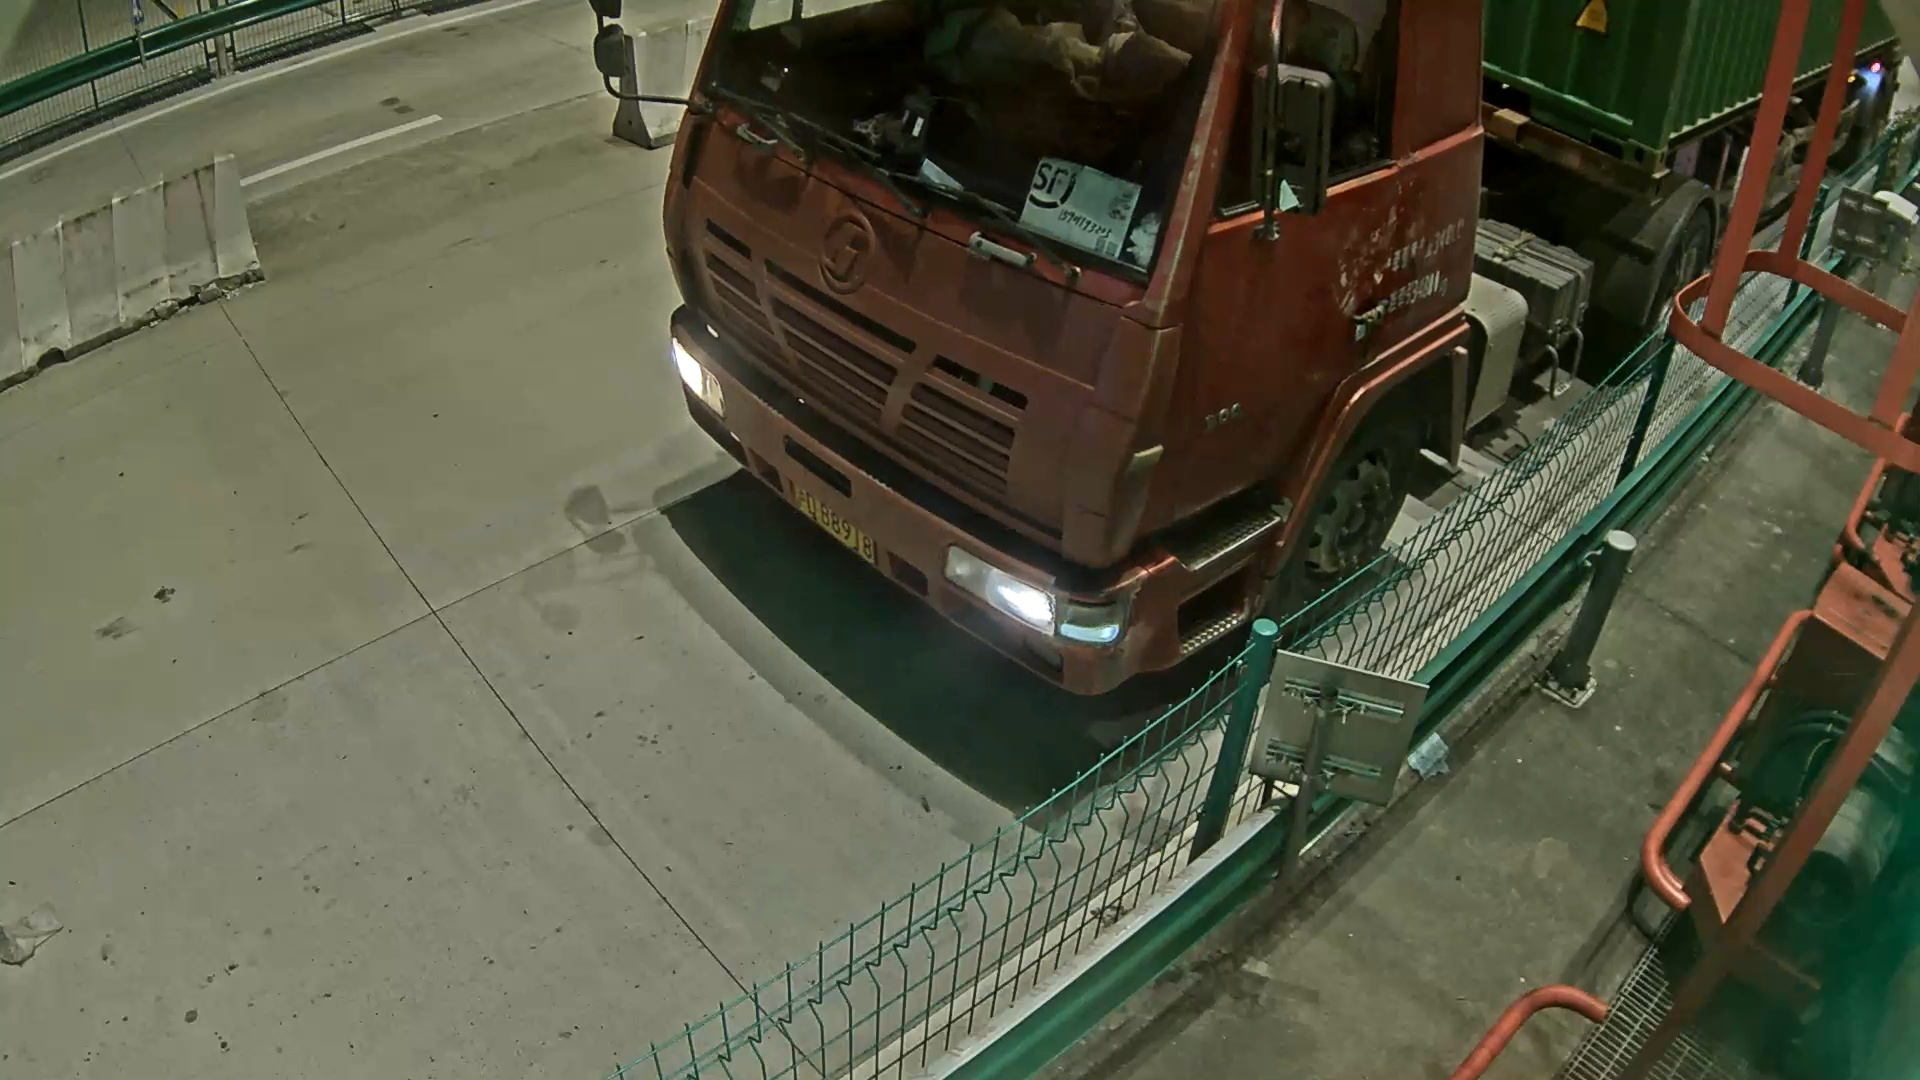head: (661, 1, 1483, 698)
plate: (796, 482, 876, 565)
